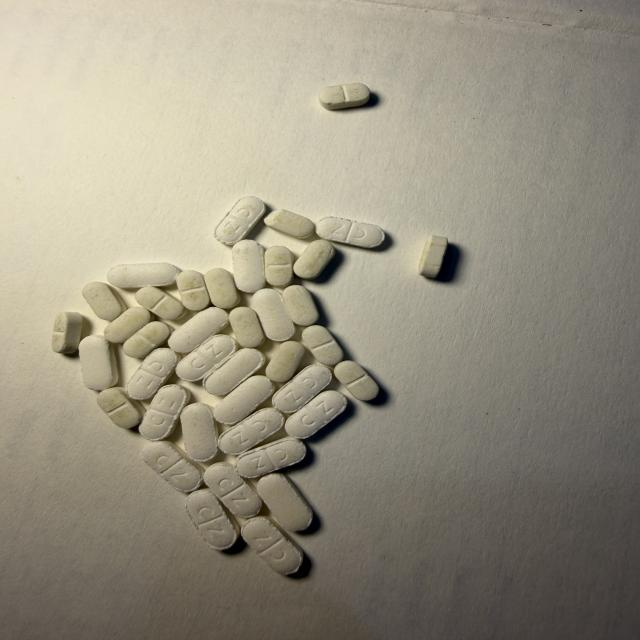pill: (241, 517, 303, 575), (257, 474, 313, 531), (187, 490, 238, 550), (219, 408, 284, 455), (205, 463, 261, 517), (143, 441, 202, 492), (214, 376, 274, 425), (285, 391, 347, 438), (203, 349, 265, 395), (176, 335, 237, 381), (139, 385, 190, 440), (236, 438, 306, 478), (273, 365, 331, 413), (168, 307, 228, 353), (126, 348, 177, 400), (215, 197, 265, 245), (252, 289, 295, 341), (316, 217, 384, 248), (79, 336, 118, 390), (181, 403, 217, 461), (108, 263, 180, 288), (97, 388, 141, 428), (334, 361, 379, 400), (232, 240, 265, 293), (123, 321, 170, 358), (104, 307, 151, 343), (302, 325, 343, 365), (82, 282, 125, 320), (294, 240, 335, 279), (266, 341, 304, 382), (136, 287, 184, 319), (283, 285, 319, 326), (264, 210, 314, 238), (229, 307, 264, 347), (205, 268, 239, 308), (319, 83, 370, 109), (177, 270, 210, 310), (52, 312, 82, 353), (264, 246, 293, 286), (419, 236, 447, 277)
